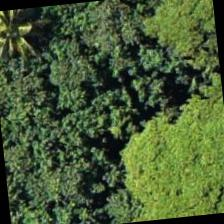Kelapa_Sawit: (0, 5, 68, 67)
